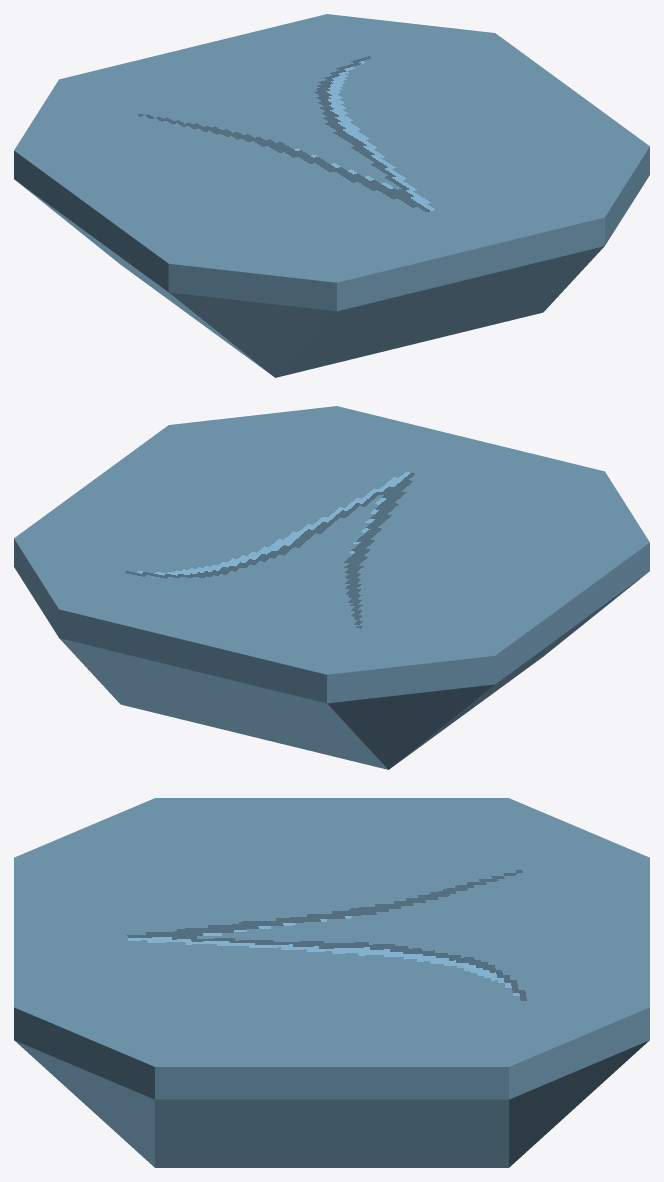
The model's file is fire token.glb.
The picture shows the model from 3 angles, top to bottom: view 1: azimuth 30°, elevation 25°; view 2: azimuth 150°, elevation 25°; view 3: azimuth 270°, elevation 25°; orthographic projection. The views are drawn at different scales.
Parts seen in each view (by area): view 1: FireToken-col; view 2: FireToken-col; view 3: FireToken-col.
Boxes of the visible parts, x1=… form: FireToken-col: x1=14, y1=14, x2=649, y2=377; FireToken-col: x1=14, y1=406, x2=649, y2=769; FireToken-col: x1=14, y1=798, x2=649, y2=1167.
Size of the model in its own units: 0.2 by 0.0557 by 0.2.
2 materials, 2 textured.
